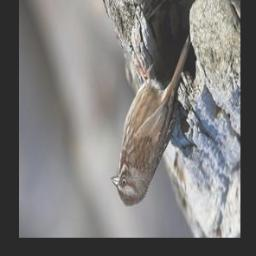Sparrow: (110, 33, 190, 208)
